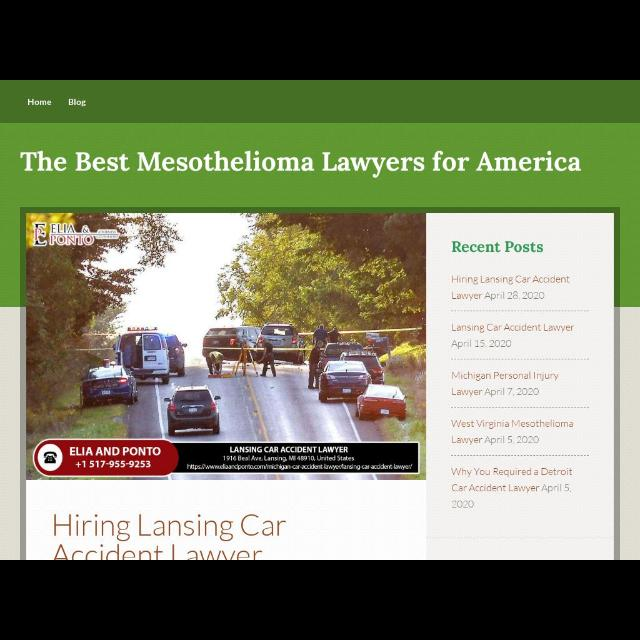image: (26, 214, 427, 480)
text: (17, 150, 583, 178), (48, 511, 292, 559), (451, 466, 574, 512), (450, 322, 576, 350), (451, 274, 571, 302), (450, 419, 574, 445), (452, 370, 560, 398), (185, 462, 412, 472), (452, 239, 544, 255), (221, 454, 355, 462), (229, 445, 349, 453), (68, 446, 160, 456), (74, 458, 152, 469), (26, 97, 52, 107), (68, 96, 88, 108)
toolbar: (2, 80, 638, 121)
